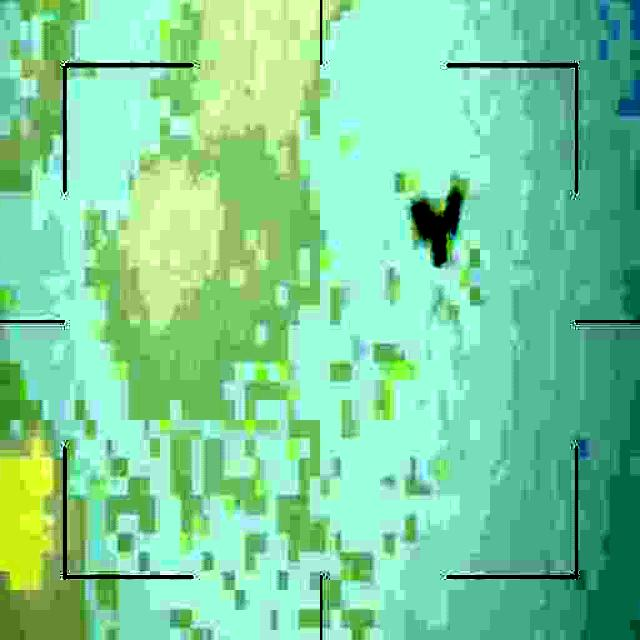bird: (414, 190, 469, 265)
